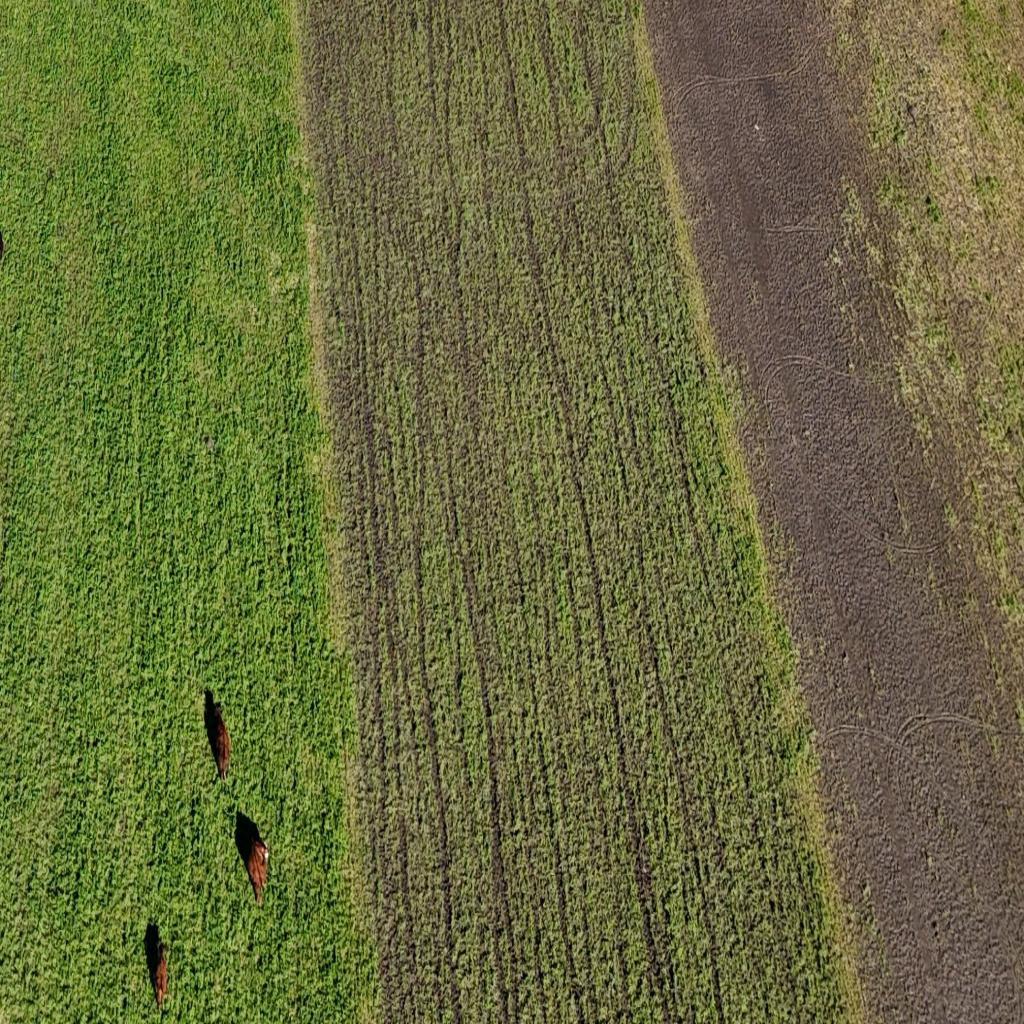cow: (234, 805, 273, 910), (202, 686, 233, 784), (142, 916, 171, 1013)
